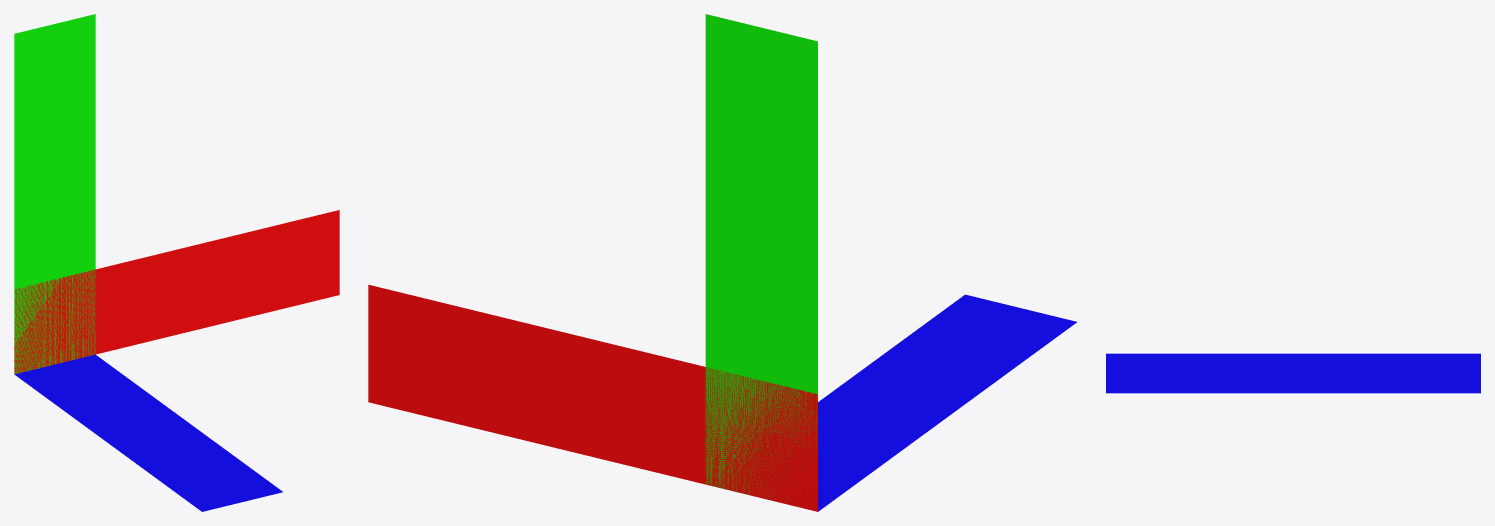
The model's file is sensorar.glb.
3 renders of one model, left to right at view 1: azimuth 30°, elevation 25°; view 2: azimuth 150°, elevation 25°; view 3: azimuth 270°, elevation 25°, orthographic. The views are drawn at different scales.
Parts seen in each view (by area): view 1: Кубик; view 2: Кубик; view 3: Кубик.
Boxes of the visible parts, x1=… form: Кубик: x1=14, y1=14, x2=339, y2=511; Кубик: x1=368, y1=14, x2=1076, y2=511; Кубик: x1=1106, y1=353, x2=1480, y2=393.
Size of the model in its own units: 2 by 2 by 2.
